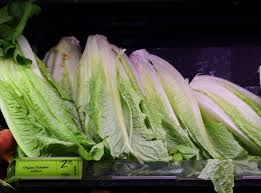Lettuce: (61, 31, 160, 161), (127, 45, 224, 162), (183, 70, 261, 153)
